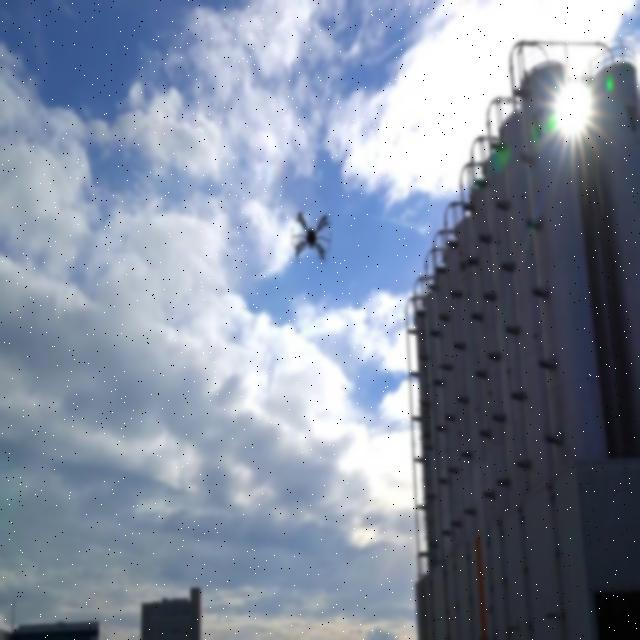UAV: (292, 212, 332, 260)
